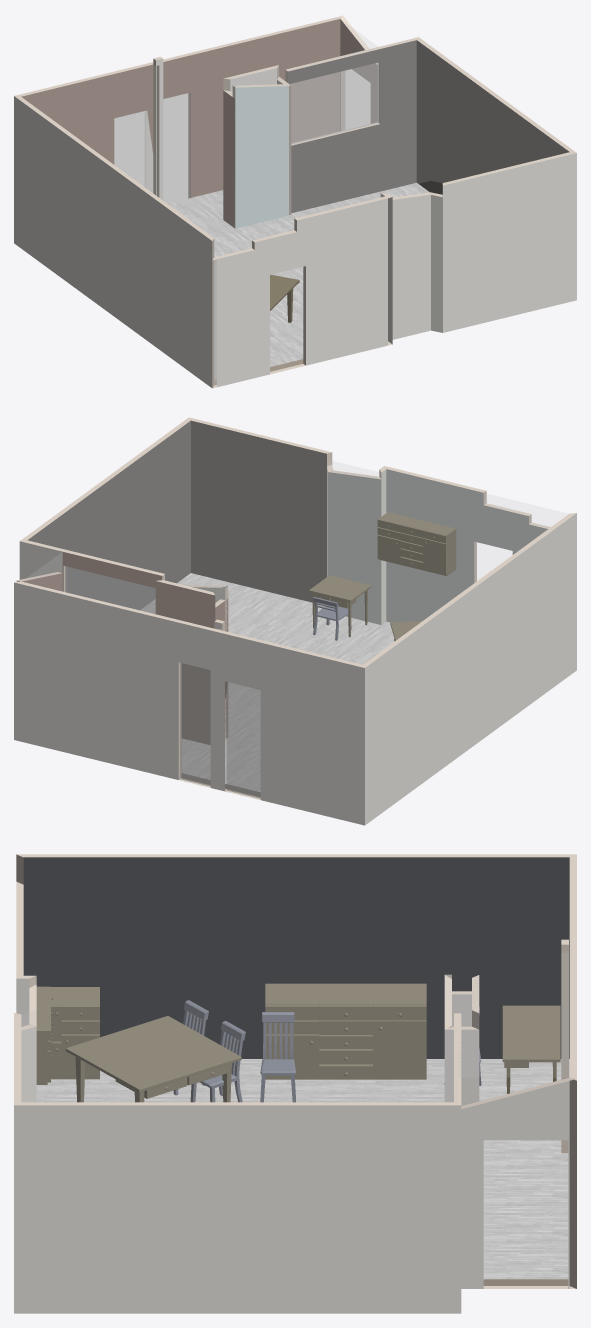
The model's file is Studio 2 (Second Try).fbx.
3 views of the same model, one above another, from view 1: azimuth 30°, elevation 25°; view 2: azimuth 150°, elevation 25°; view 3: azimuth 270°, elevation 25° (orthographic). The views are drawn at different scales.
Visible parts, largest first — view 1: ceiling_Dining Room_2, wall_37, wall_25, wall_33, wall_11, wall_0, wall_15, wall_3, floor_Dining Room_0, wall_49, window_0, window_2 (+18 smaller); view 2: ceiling_Dining Room_2, wall_61, wall_37, wall_4, wall_15, floor_Dining Room_0, wall_2, wall_8, wall_7, storage1, door_0, door_2 (+14 smaller); view 3: ceiling_Dining Room_2, wall_77, wall_5, floor_Dining Room_0, storage0, table1, wall_73, ceiling_Dining Room_0, storage2, table0, wall_38, chair0 (+15 smaller).
Part boxes in pixels (x1=…): ceiling_Dining Room_2: x1=31, y1=26, x2=568, y2=237; wall_37: x1=14, y1=96, x2=212, y2=387; wall_25: x1=217, y1=198, x2=387, y2=387; wall_33: x1=443, y1=153, x2=576, y2=332; wall_11: x1=21, y1=19, x2=340, y2=197; wall_0: x1=288, y1=40, x2=416, y2=213; wall_15: x1=416, y1=40, x2=569, y2=194; wall_3: x1=235, y1=86, x2=288, y2=228; floor_Dining Room_0: x1=167, y1=182, x2=429, y2=366; wall_49: x1=392, y1=194, x2=432, y2=339; window_0: x1=290, y1=62, x2=378, y2=143; window_2: x1=291, y1=63, x2=378, y2=143; ceiling_Dining Room_2: x1=29, y1=421, x2=567, y2=657; wall_61: x1=14, y1=582, x2=364, y2=825; wall_37: x1=365, y1=513, x2=576, y2=825; wall_4: x1=191, y1=420, x2=326, y2=602; wall_15: x1=28, y1=421, x2=190, y2=609; floor_Dining Room_0: x1=140, y1=573, x2=394, y2=791; wall_2: x1=386, y1=469, x2=547, y2=622; wall_8: x1=328, y1=472, x2=381, y2=624; wall_7: x1=155, y1=581, x2=215, y2=744; storage1: x1=377, y1=512, x2=456, y2=576; door_0: x1=226, y1=682, x2=260, y2=798; door_2: x1=226, y1=682, x2=260, y2=798; ceiling_Dining Room_2: x1=22, y1=858, x2=543, y2=1101; wall_77: x1=14, y1=1105, x2=461, y2=1313; wall_5: x1=23, y1=857, x2=569, y2=1058; floor_Dining Room_0: x1=36, y1=1059, x2=569, y2=1279; storage0: x1=265, y1=983, x2=426, y2=1079; table1: x1=65, y1=1016, x2=241, y2=1102; wall_73: x1=461, y1=1081, x2=569, y2=1288; ceiling_Dining Room_0: x1=545, y1=858, x2=568, y2=1076; storage2: x1=51, y1=987, x2=99, y2=1079; table0: x1=502, y1=1005, x2=560, y2=1093; wall_38: x1=17, y1=854, x2=576, y2=857; chair0: x1=260, y1=1012, x2=295, y2=1102.
Size of the model in its own units: 8.05 by 3.25 by 7.63.
Materials: 49 (1 with a texture image).
